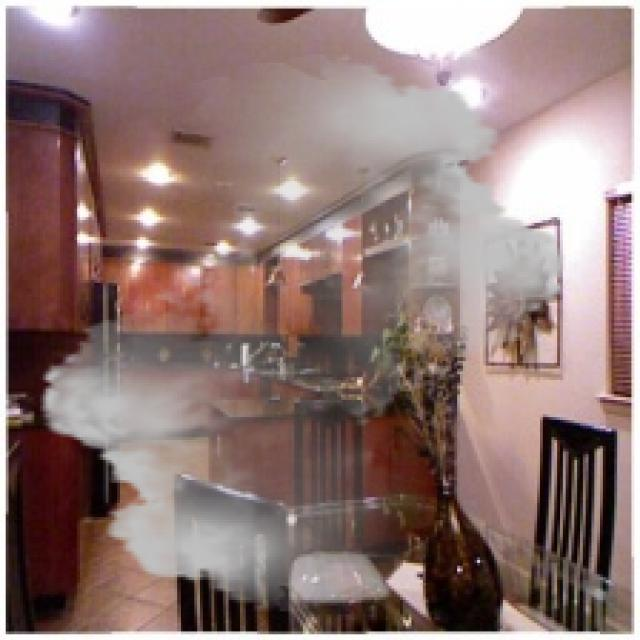smoke: (23, 54, 583, 612)
